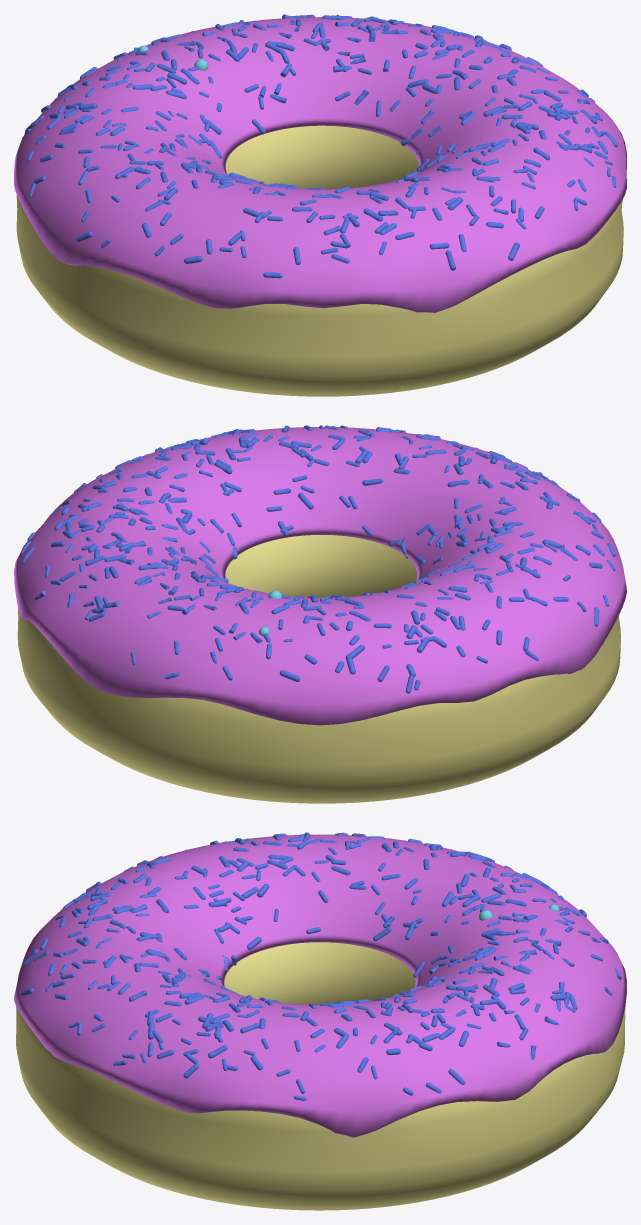
Rendered from Donut.fbx.
3 renders of one model, top to bottom at view 1: azimuth 30°, elevation 25°; view 2: azimuth 150°, elevation 25°; view 3: azimuth 270°, elevation 25°, orthographic.
Parts seen in each view (by area): view 1: ıcing, donat; view 2: ıcing, donat; view 3: ıcing, donat.
Boxes of the visible parts, box(x1,y1,x2,y2) form: ıcing: box(14, 17, 626, 312); donat: box(16, 125, 623, 396); ıcing: box(14, 427, 626, 725); donat: box(17, 535, 620, 803); ıcing: box(14, 834, 626, 1137); donat: box(16, 942, 625, 1210).
Size of the model in its own units: 12.58 by 4.26 by 12.64.
